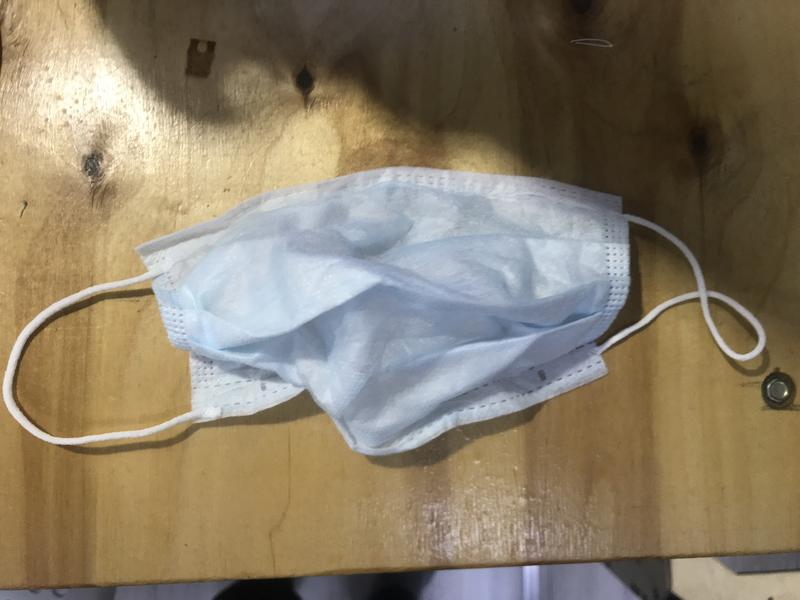medical_mask: (1, 166, 766, 452)
